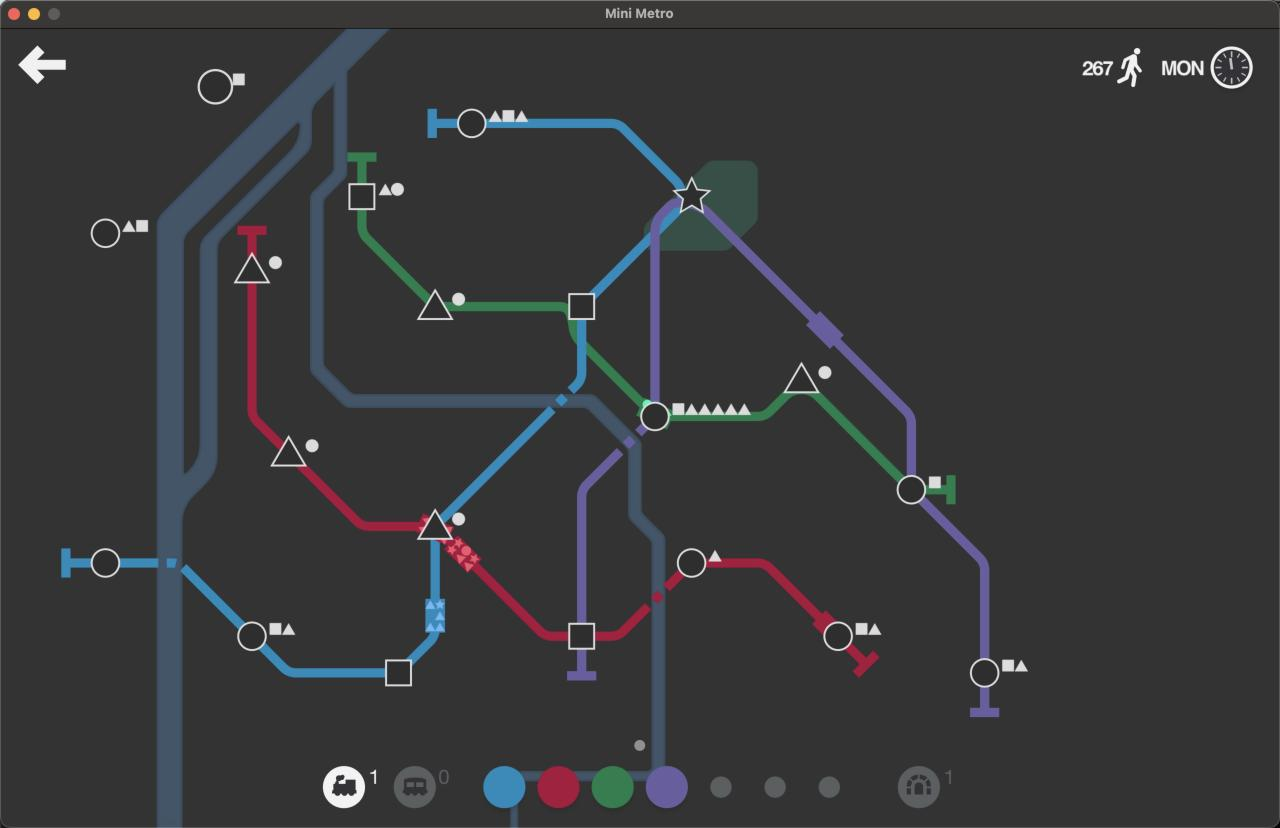CIRCLE: (197, 67, 234, 106), (639, 400, 671, 433), (237, 620, 268, 652), (896, 474, 927, 506), (90, 217, 121, 249), (969, 657, 1000, 688), (676, 547, 707, 578), (823, 620, 853, 652), (457, 108, 487, 139), (91, 547, 120, 578)
SQUARE: (347, 182, 377, 212), (567, 621, 596, 651), (384, 658, 413, 687), (568, 292, 596, 320)
STAR: (674, 177, 711, 213)
TRIANGLE: (416, 288, 456, 321), (783, 361, 821, 395), (416, 507, 454, 541), (269, 435, 308, 468), (233, 252, 272, 285)
